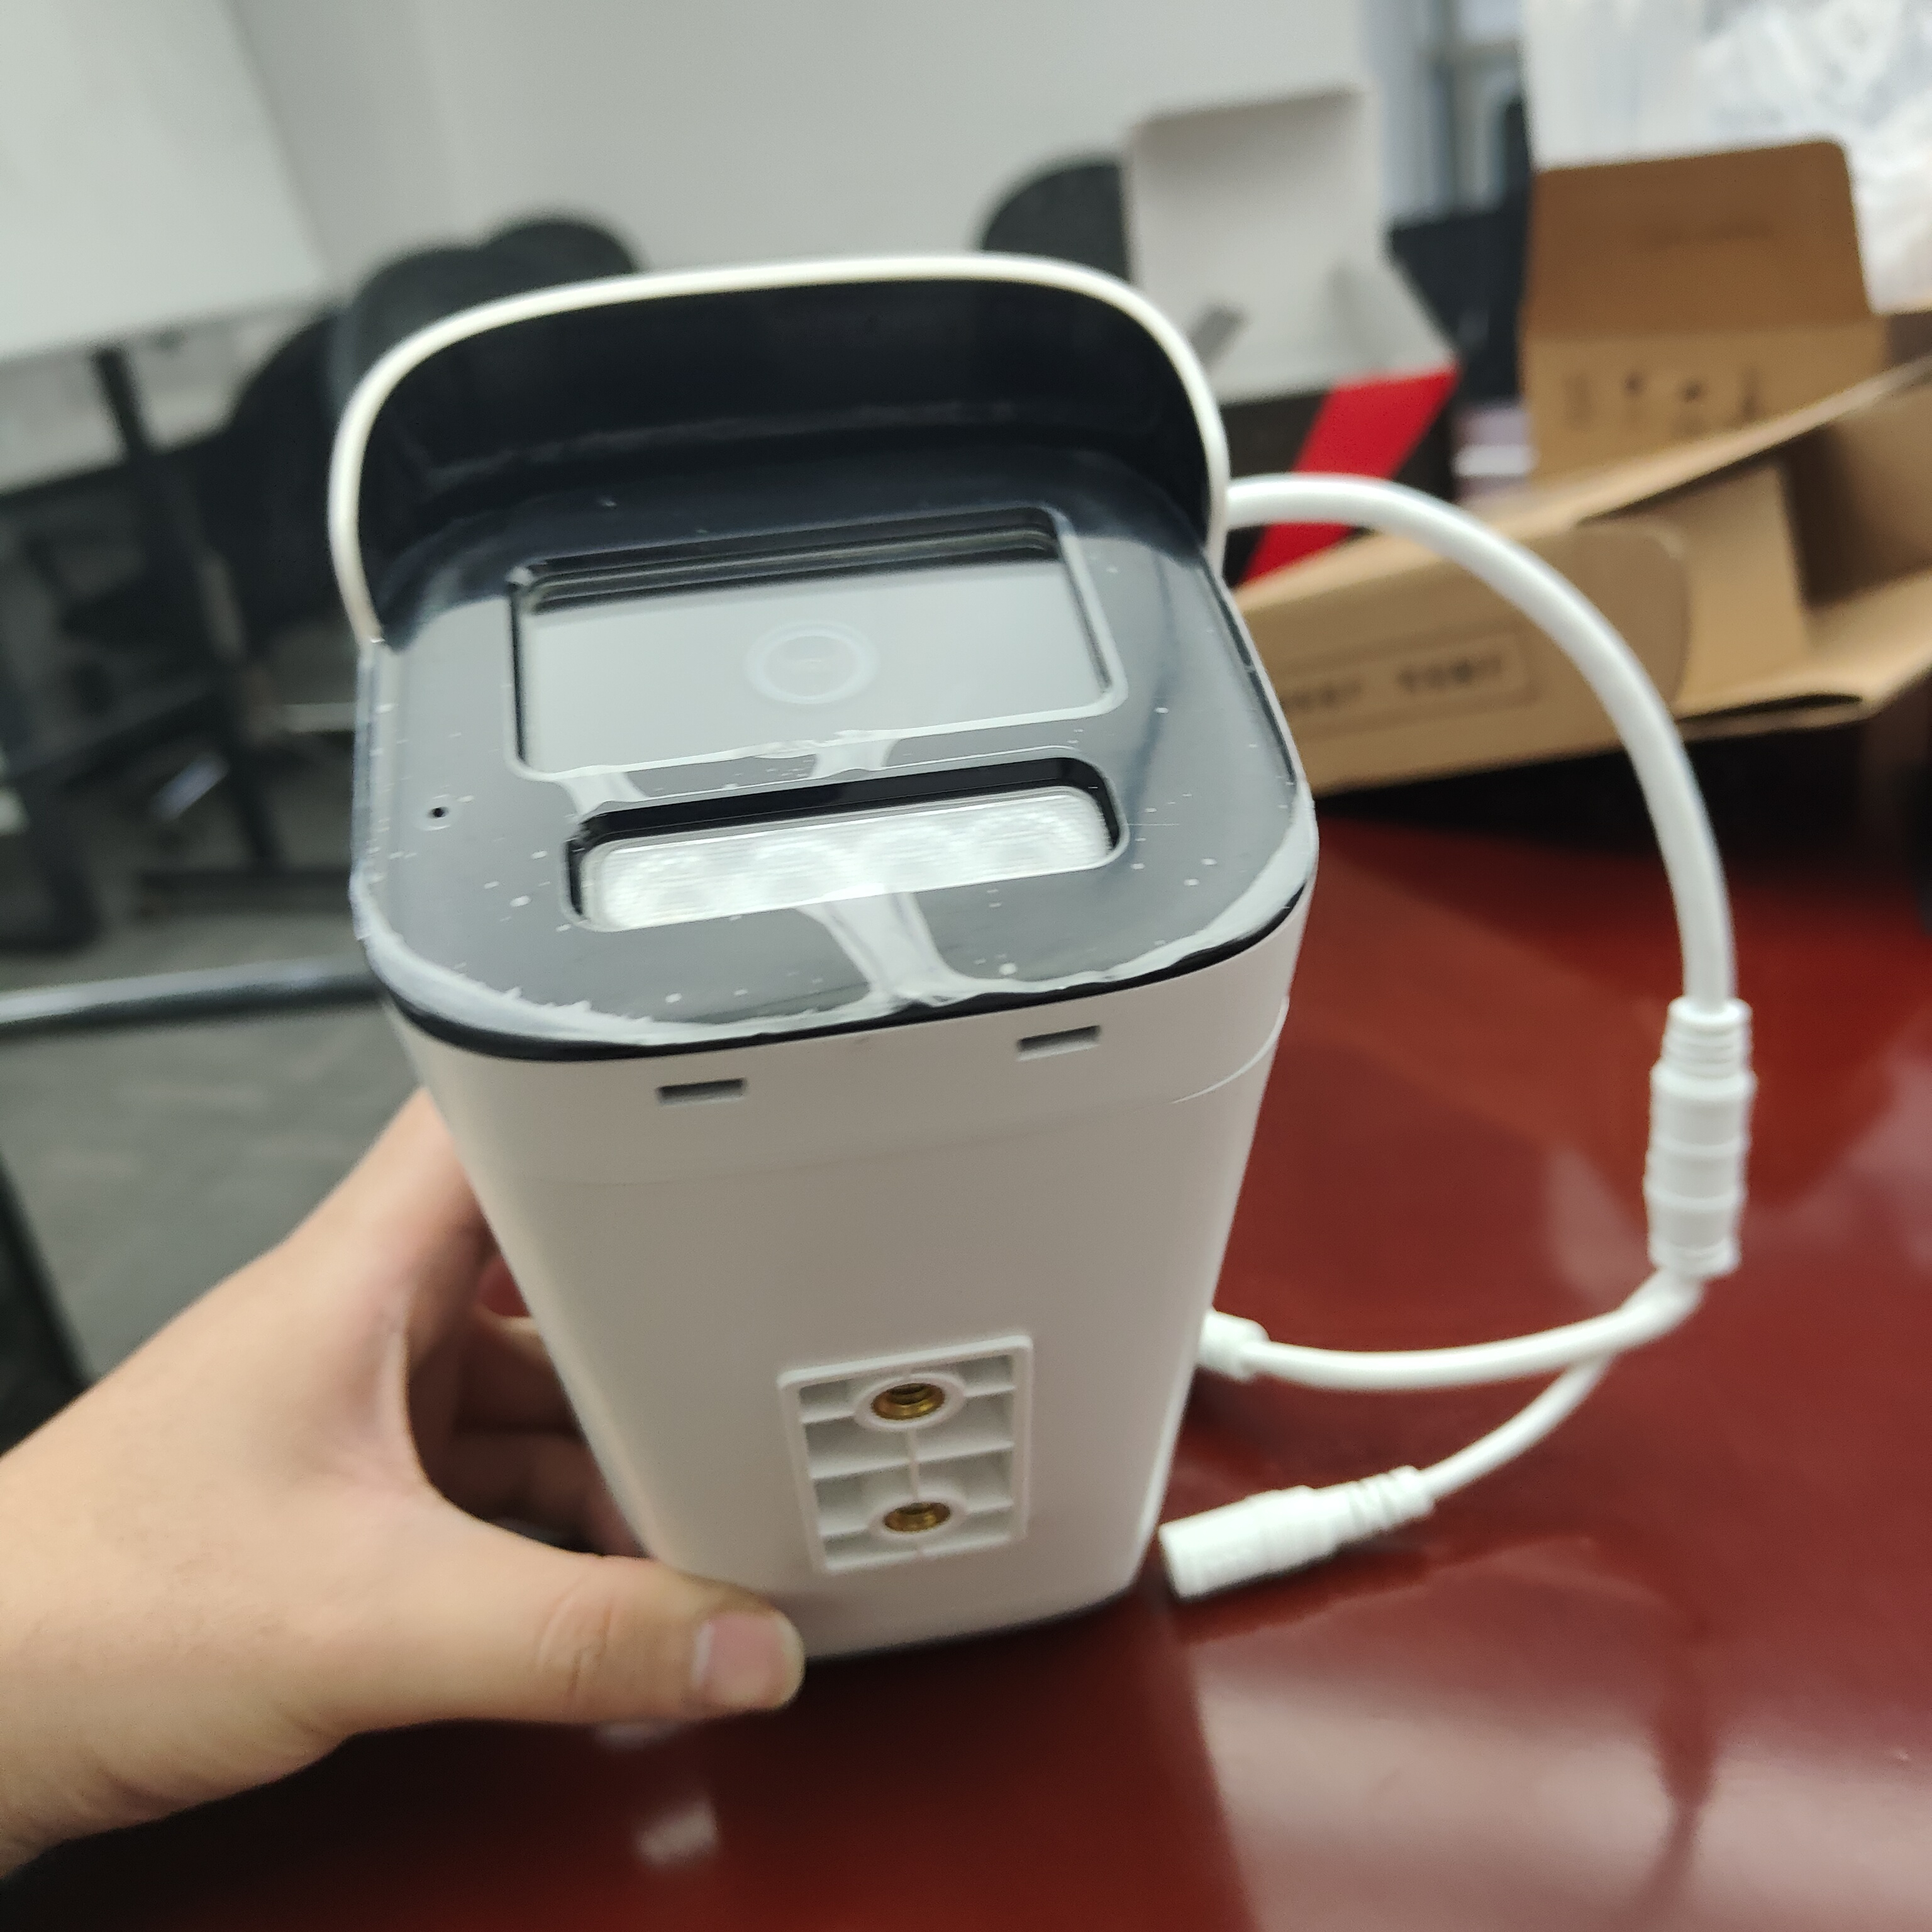hkws: (226, 281, 1465, 1755)
